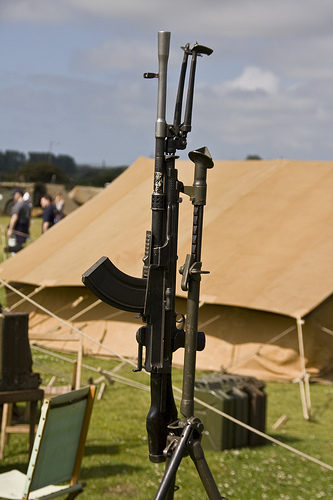rifle: (84, 20, 265, 479)
